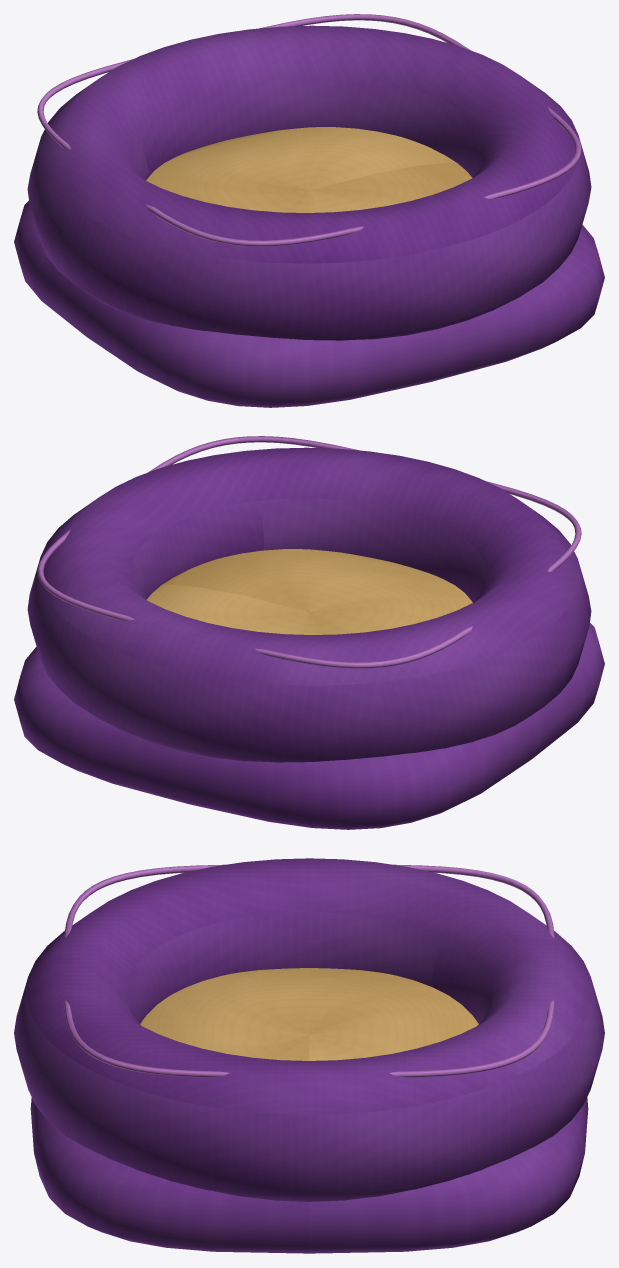
Rendered from V5_CatBed.fbx.
The picture shows the model from 3 angles, top to bottom: view 1: azimuth 30°, elevation 25°; view 2: azimuth 150°, elevation 25°; view 3: azimuth 270°, elevation 25°; orthographic projection. The views are drawn at different scales.
Parts seen in each view (by area): view 1: V5_CatBed; view 2: V5_CatBed; view 3: V5_CatBed.
Part boxes in pixels (x1,y1,x2,y2): V5_CatBed: [14, 14, 604, 407]; V5_CatBed: [14, 436, 604, 829]; V5_CatBed: [14, 858, 604, 1253].
Size of the model in its own units: 0.54 by 0.1947 by 0.53.
Materials: 1 (1 with a texture image).
